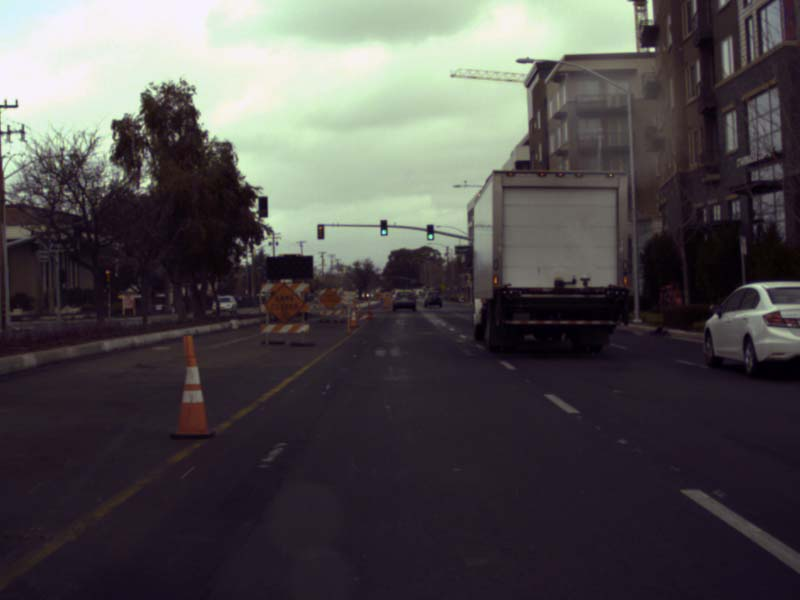Green: (605, 223, 617, 257), (481, 251, 489, 267), (427, 225, 433, 239), (381, 221, 386, 234)
Red: (318, 225, 322, 238)
